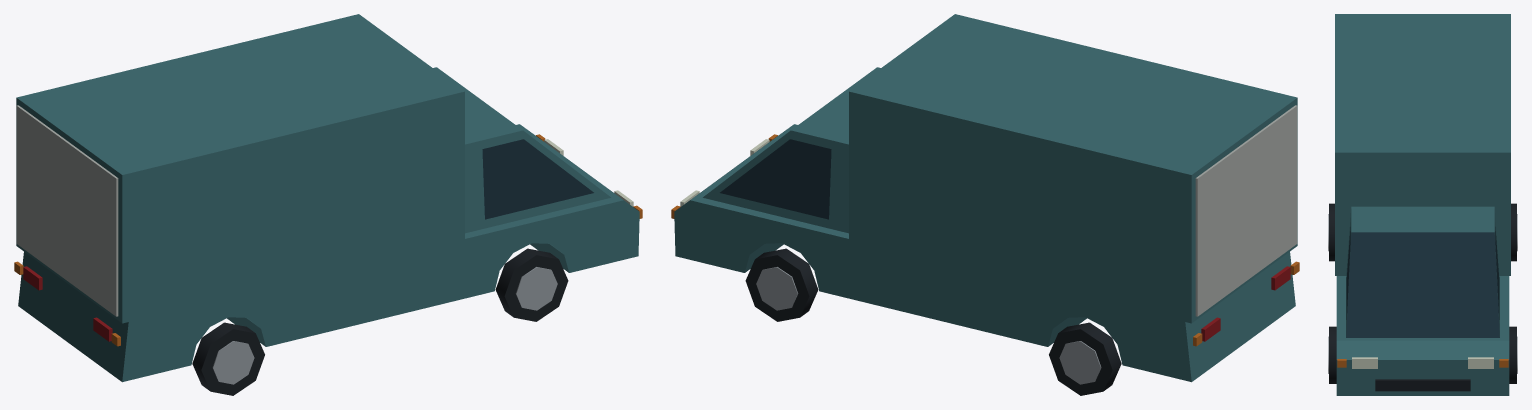
Rendered from box-far.glb.
3 renders of one model, left to right at view 1: azimuth 30°, elevation 25°; view 2: azimuth 150°, elevation 25°; view 3: azimuth 270°, elevation 25°, orthographic. The views are drawn at different scales.
Visible parts, largest first — view 1: distant_surface; view 2: distant_surface; view 3: distant_surface.
Boxes of the visible parts, box(x1,y1,x2,y2) form: distant_surface: box(14, 14, 642, 395); distant_surface: box(671, 14, 1299, 395); distant_surface: box(1328, 14, 1517, 395).
Size of the model in its own units: 6.41 by 2.85 by 2.41.
